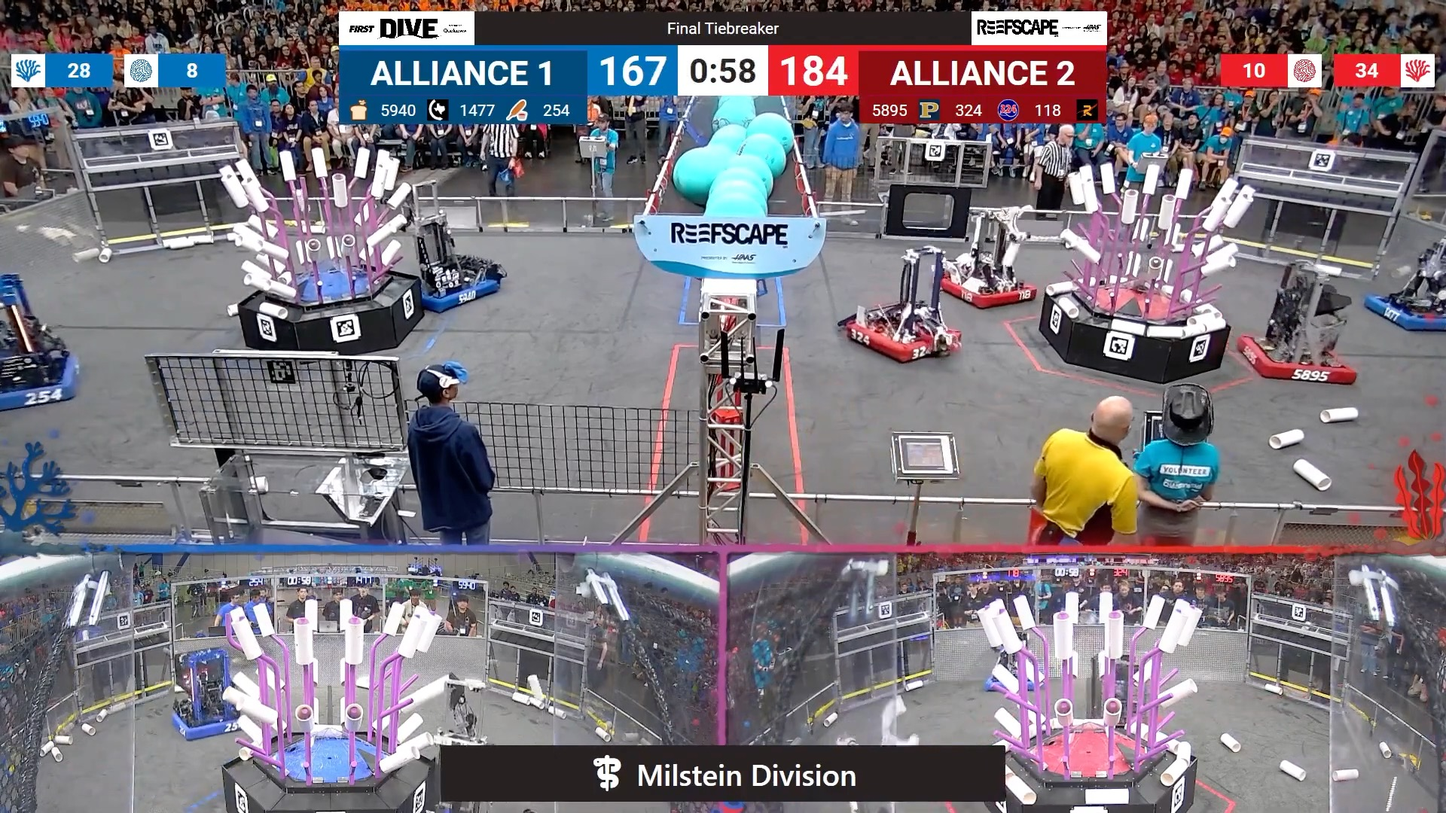bumpers: (1226, 328, 1362, 391), (837, 313, 964, 367), (0, 349, 89, 420), (399, 263, 512, 314), (931, 269, 1046, 314), (1351, 288, 1446, 339), (166, 700, 247, 745), (983, 670, 1049, 694)
